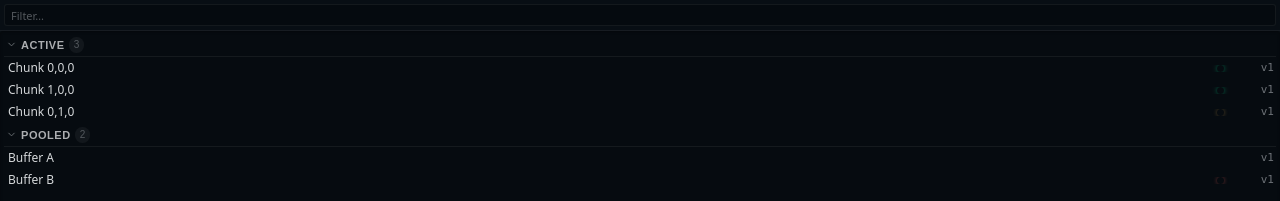
it: TreeList — collapse › hides rows when a group is clicked (collapsed)
Step 1. Click the button "Active 3" → (43,44), box [4,33,1276,57]
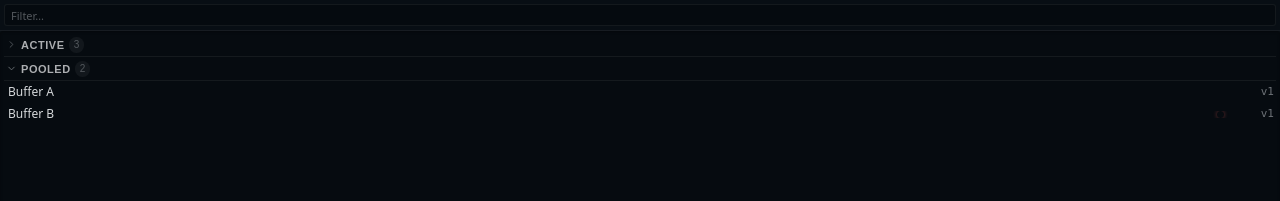
Expected: the text "Buffer A" is shown, [8,83,54,100]
Expected: the text "Chunk 0,0,0" is gone
Expected: the text "Chunk 1,0,0" is gone
